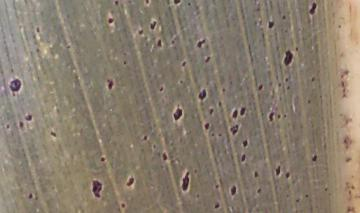tarspot: (179, 168, 191, 196), (90, 177, 104, 200), (7, 75, 22, 96), (281, 46, 294, 69), (171, 103, 183, 123), (307, 1, 318, 18), (195, 88, 209, 101), (125, 174, 136, 189), (240, 136, 251, 150), (239, 102, 248, 119), (274, 163, 283, 179), (104, 77, 115, 90), (237, 152, 250, 163), (229, 182, 238, 197), (47, 130, 59, 141), (160, 150, 171, 162), (148, 19, 159, 31), (228, 123, 240, 134), (212, 181, 223, 192), (266, 19, 276, 31), (155, 37, 164, 50), (266, 109, 275, 122), (231, 107, 239, 121), (98, 154, 109, 164), (308, 152, 319, 162), (196, 38, 207, 48), (202, 120, 212, 131), (26, 189, 34, 202), (22, 113, 35, 121), (107, 14, 115, 27), (212, 201, 222, 211), (255, 82, 265, 92), (18, 119, 27, 130), (203, 54, 212, 65), (252, 169, 261, 180), (280, 12, 289, 23), (208, 105, 215, 118), (136, 27, 145, 37), (179, 58, 188, 68), (255, 184, 262, 196), (276, 111, 283, 123), (157, 85, 166, 94), (285, 170, 293, 180), (141, 132, 149, 142), (169, 37, 177, 47), (121, 58, 129, 68), (284, 83, 292, 93), (216, 98, 223, 109), (304, 191, 311, 202), (294, 43, 301, 54), (171, 1, 183, 7), (4, 121, 11, 131), (186, 1, 194, 9), (119, 200, 126, 209), (111, 1, 121, 7), (144, 1, 151, 5)
